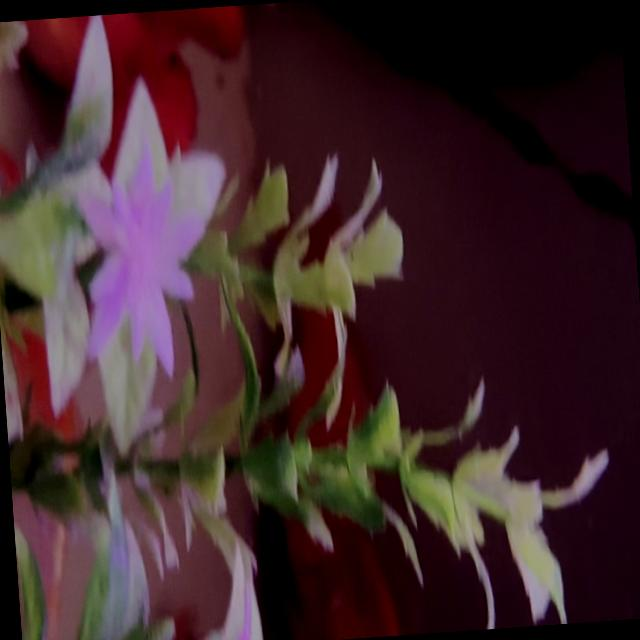fish: (0, 11, 155, 124), (288, 505, 415, 640)
